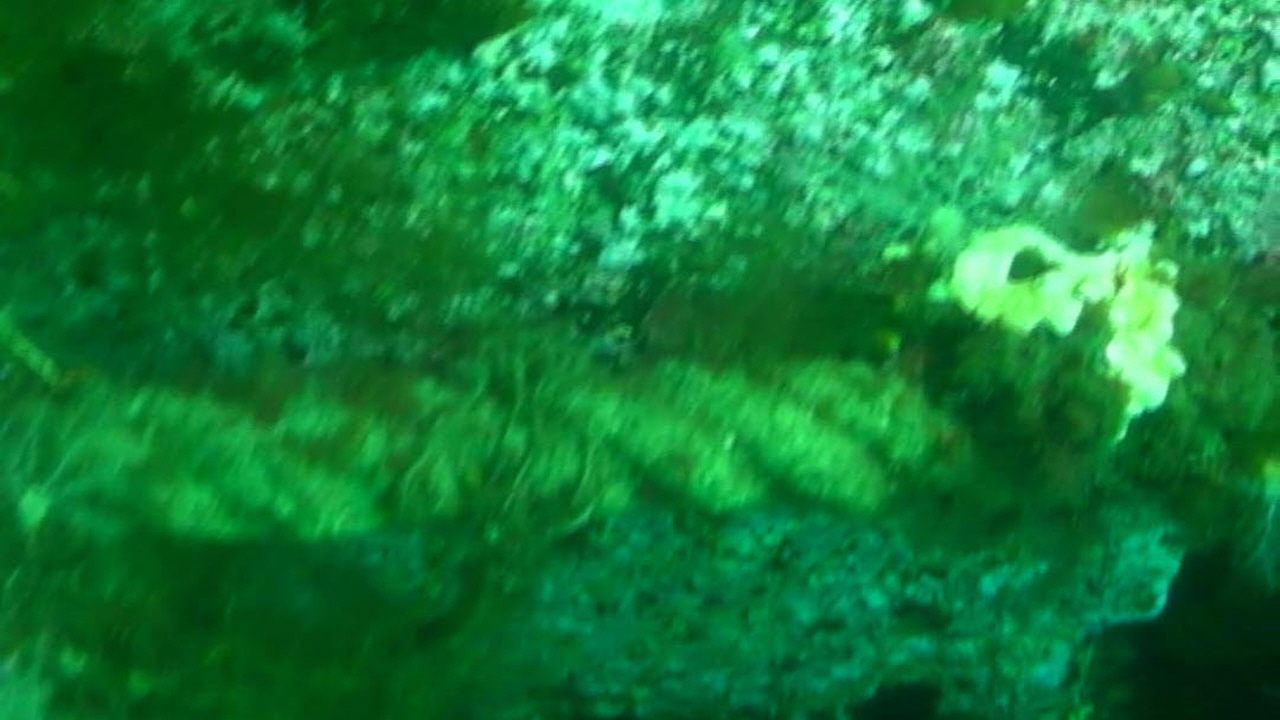rope: (0, 358, 972, 543)
